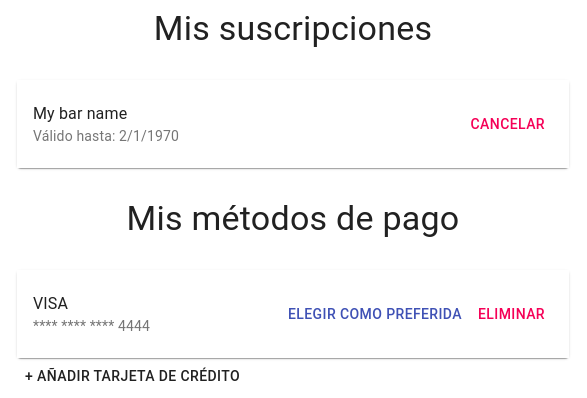
Test: Render subscriptions › Try set as default
The image size is (587, 398).
Click the button "ELEGIR COMO PREFERIDA": (375, 314) top-left (280, 296), bottom-right (470, 332)
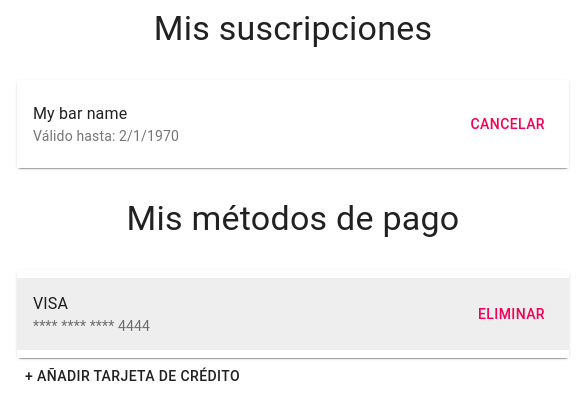
Result: the button "ELEGIR COMO PREFERIDA" is gone
